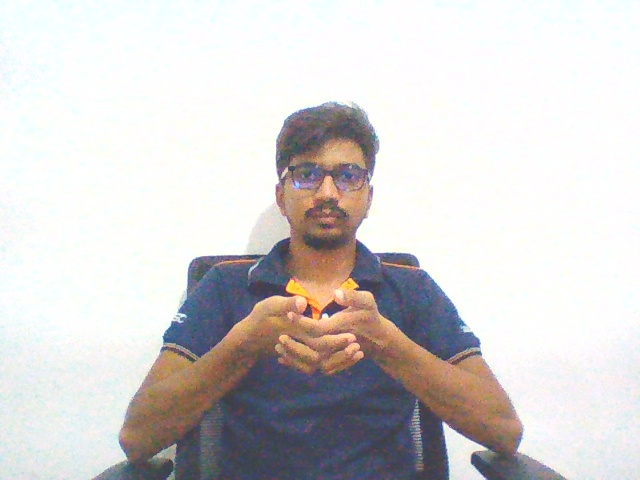mangosteen: (230, 287, 393, 381)
